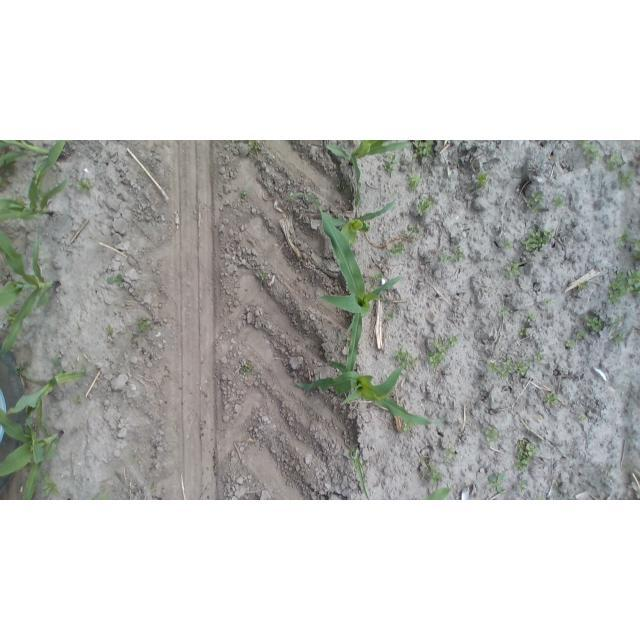Maize: (283, 193, 405, 372), (293, 361, 448, 426), (1, 230, 58, 361), (0, 409, 64, 500), (324, 141, 411, 191), (1, 164, 68, 226), (7, 366, 89, 415), (325, 199, 396, 235), (0, 141, 64, 174), (354, 449, 373, 499), (425, 487, 451, 499)
Weeds: (487, 353, 545, 376), (607, 270, 640, 304), (427, 335, 458, 366), (522, 225, 555, 254), (390, 224, 421, 253), (420, 454, 444, 484), (614, 234, 640, 261), (578, 140, 602, 164), (412, 142, 437, 165), (517, 439, 535, 469), (390, 348, 415, 366), (379, 155, 399, 177), (615, 169, 636, 188), (437, 247, 464, 261), (527, 192, 546, 211), (606, 153, 625, 171), (486, 474, 504, 492), (472, 173, 489, 192), (519, 315, 533, 338), (502, 261, 522, 277), (74, 176, 94, 192), (415, 198, 431, 218), (587, 315, 602, 334), (543, 390, 558, 408), (136, 315, 152, 331), (608, 315, 624, 330), (248, 141, 264, 155), (499, 238, 513, 253), (485, 427, 500, 441), (235, 187, 249, 202), (611, 331, 625, 345), (407, 174, 419, 190), (552, 194, 566, 207), (108, 275, 124, 286), (239, 364, 253, 376), (446, 449, 457, 464), (105, 322, 115, 338), (72, 394, 84, 407), (579, 279, 590, 293), (499, 303, 512, 314), (370, 273, 383, 283), (577, 413, 587, 424), (385, 310, 395, 320), (575, 331, 584, 341), (518, 481, 526, 492), (544, 296, 552, 304), (566, 340, 573, 348)
